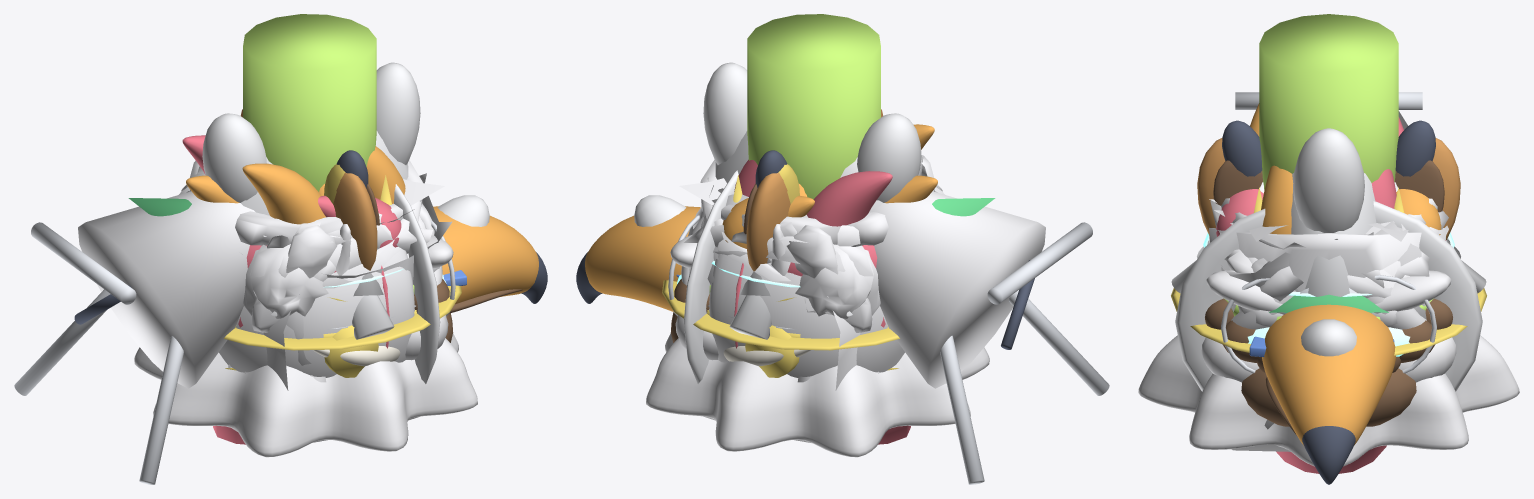
File: characters.glb
The picture shows the model from 3 angles, left to right: view 1: azimuth 30°, elevation 25°; view 2: azimuth 150°, elevation 25°; view 3: azimuth 270°, elevation 25°; orthographic projection. The views are drawn at different scales.
Parts seen in each view (by area): view 1: Body_DressSkirt, Hat_Hood, Hat_TopHat, Part_SpikedShell, Part_RoyalCowl, Hair_FlameSweep, Hat_ToucanHead, QuiltedDigit.004, QuiltedDigit.001, Hair_Buns, Hat_Bowler, Part_MouseEars (+16 smaller); view 2: Body_DressSkirt, Hat_Hood, Hat_TopHat, Part_SpikedShell, Part_RoyalCowl, Hat_ToucanHead, Hair_FlameSweep, QuiltedDigit.004, QuiltedDigit.001, Hair_Buns, Hat_Bowler, Part_MouseEars (+15 smaller); view 3: Hat_TopHat, Body_DressSkirt, Hat_ToucanHead, Part_SpikedShell, QuiltedDigit.001, Head_GorillaSculpt, Part_NinjaMask, Part_MouseEars, Hair_FlameSweep, Boss_MasterMitt, Part_BoltEars, Part_Mustache (+13 smaller).
Part boxes in pixels (x1,y1,x2,y2): Body_DressSkirt: (134, 333, 477, 457); Hat_Hood: (78, 191, 255, 388); Hat_TopHat: (243, 14, 414, 294); Part_SpikedShell: (14, 184, 440, 484); Part_RoyalCowl: (219, 249, 414, 377); Hair_FlameSweep: (182, 135, 405, 272); Hat_ToucanHead: (433, 206, 547, 313); QuiltedDigit.004: (202, 113, 266, 202); QuiltedDigit.001: (376, 62, 420, 164); Hair_Buns: (179, 187, 442, 318); Hat_Bowler: (224, 285, 461, 350); Part_MouseEars: (240, 109, 379, 270); Body_DressSkirt: (646, 333, 989, 457); Hat_Hood: (869, 191, 1045, 388); Hat_TopHat: (709, 14, 880, 294); Part_SpikedShell: (683, 170, 1109, 484); Part_RoyalCowl: (709, 250, 904, 377); Hat_ToucanHead: (576, 206, 700, 311); Hair_FlameSweep: (722, 124, 937, 276); QuiltedDigit.004: (857, 113, 921, 202); QuiltedDigit.001: (703, 62, 747, 164); Hair_Buns: (681, 187, 944, 318); Hat_Bowler: (662, 280, 899, 350); Part_MouseEars: (743, 109, 883, 271); Hat_TopHat: (1224, 14, 1433, 320); Body_DressSkirt: (1138, 335, 1519, 466); Hat_ToucanHead: (1262, 304, 1395, 484); Part_SpikedShell: (1175, 92, 1482, 391); QuiltedDigit.001: (1293, 128, 1364, 232); Head_GorillaSculpt: (1206, 270, 1451, 426); Part_NinjaMask: (1209, 228, 1446, 291); Part_MouseEars: (1197, 138, 1460, 239); Hair_FlameSweep: (1216, 103, 1441, 236); Boss_MasterMitt: (1276, 173, 1386, 473); Part_BoltEars: (1222, 120, 1435, 176); Part_Mustache: (1205, 298, 1452, 372).
Bounding box in the file's own units: 4.67 × 3.54 × 3.18.
